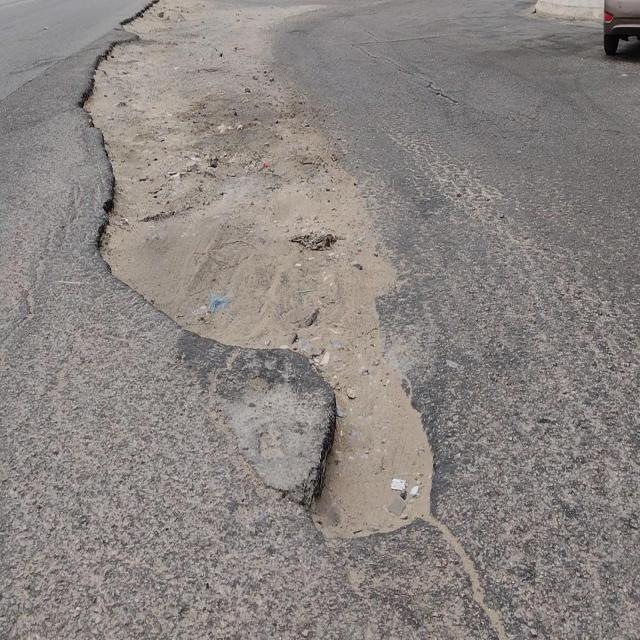Pothole: (298, 377, 440, 546), (90, 175, 162, 274), (77, 64, 127, 124), (99, 33, 141, 67)
